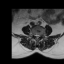CCS_normal: (36, 33, 38, 40)
LFS_stenosis: (39, 33, 41, 38)
LLS_normal: (38, 32, 39, 39)
RFS_normal: (33, 32, 35, 37)
RLS_normal: (35, 32, 36, 38)
